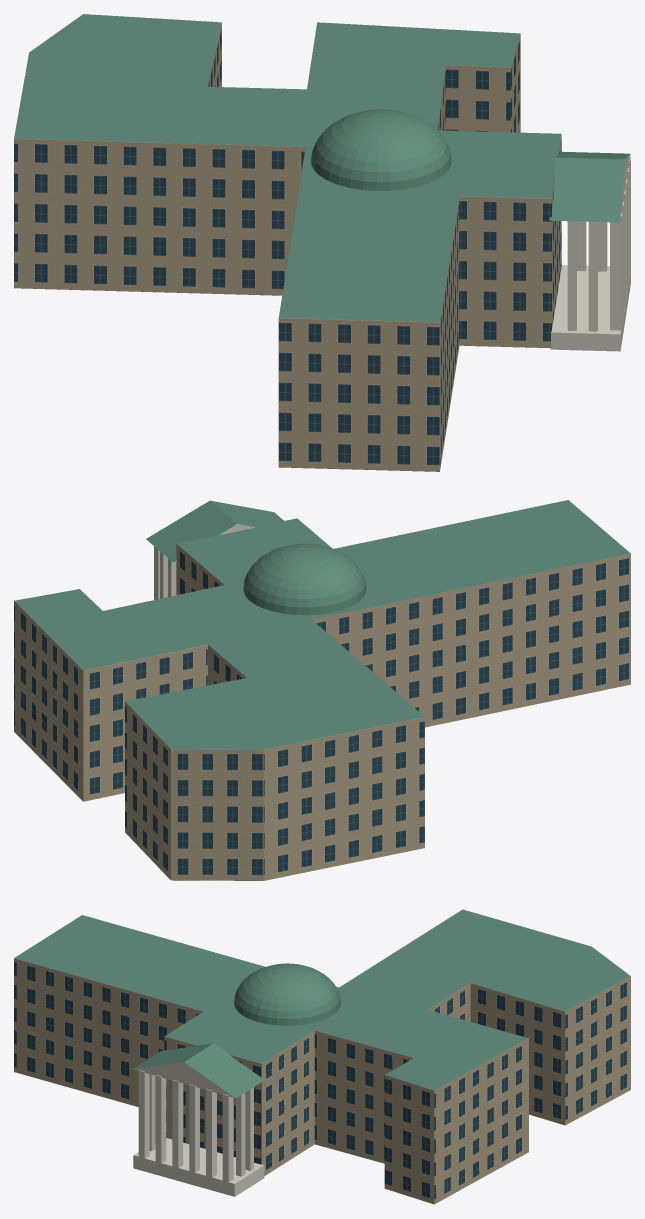
The model's file is fragments.glb.
The picture shows the model from 3 angles, top to bottom: view 1: azimuth 30°, elevation 25°; view 2: azimuth 150°, elevation 25°; view 3: azimuth 270°, elevation 25°; orthographic projection. The views are drawn at different scales.
Visible parts, largest first — view 1: SM_MainV1_Fragment_001, SM_MainV1_Fragment_023, SM_MainV1_Fragment_025, SM_MainV1_Fragment_006, SM_MainV1_Fragment_045, SM_MainV1_Fragment_019, SM_MainV1_Fragment_005, SM_MainV1_Fragment_043, SM_MainV1_Fragment_031, SM_MainV1_Fragment_026, SM_MainV1_Fragment_033, SM_MainV1_Fragment_029 (+22 smaller); view 2: SM_MainV1_Fragment_002, SM_MainV1_Fragment_046, SM_MainV1_Fragment_004, SM_MainV1_Fragment_013, SM_MainV1_Fragment_050, SM_MainV1_Fragment_003, SM_MainV1_Fragment_044, SM_MainV1_Fragment_022, SM_MainV1_Fragment_027, SM_MainV1_Fragment_005, SM_MainV1_Fragment_029, SM_MainV1_Fragment_006 (+26 smaller); view 3: SM_MainV1_Fragment_009, SM_MainV1_Fragment_011, SM_MainV1_Fragment_047, SM_MainV1_Fragment_030, SM_MainV1_Fragment_003, SM_MainV1_Fragment_005, SM_MainV1_Fragment_001, SM_MainV1_Fragment_016, SM_MainV1_Fragment_032, SM_MainV1_Fragment_018, SM_MainV1_Fragment_049, SM_MainV1_Fragment_026 (+24 smaller).
Boxes of the visible parts, x1,y1,x2,y2 form: SM_MainV1_Fragment_001: (350,274,446,417); SM_MainV1_Fragment_023: (86,187,217,293); SM_MainV1_Fragment_025: (169,99,319,215); SM_MainV1_Fragment_006: (88,75,211,195); SM_MainV1_Fragment_045: (391,162,560,292); SM_MainV1_Fragment_019: (14,109,109,228); SM_MainV1_Fragment_005: (465,131,621,262); SM_MainV1_Fragment_043: (278,282,371,409); SM_MainV1_Fragment_031: (456,239,554,347); SM_MainV1_Fragment_026: (428,30,520,132); SM_MainV1_Fragment_033: (514,213,625,351); SM_MainV1_Fragment_029: (298,114,411,202); SM_MainV1_Fragment_002: (139,718,249,846); SM_MainV1_Fragment_046: (221,708,342,821); SM_MainV1_Fragment_004: (414,618,531,724); SM_MainV1_Fragment_013: (529,599,630,705); SM_MainV1_Fragment_050: (396,555,511,656); SM_MainV1_Fragment_003: (27,622,114,737); SM_MainV1_Fragment_044: (85,605,215,715); SM_MainV1_Fragment_022: (503,540,608,622); SM_MainV1_Fragment_027: (151,817,270,880); SM_MainV1_Fragment_005: (177,509,292,594); SM_MainV1_Fragment_029: (283,546,403,627); SM_MainV1_Fragment_006: (244,664,389,711); SM_MainV1_Fragment_009: (297,1012,399,1122); SM_MainV1_Fragment_011: (74,965,180,1072); SM_MainV1_Fragment_047: (472,969,588,1060); SM_MainV1_Fragment_030: (143,1053,265,1158); SM_MainV1_Fragment_003: (443,1032,528,1150); SM_MainV1_Fragment_005: (139,1023,298,1115); SM_MainV1_Fragment_001: (14,940,104,1030); SM_MainV1_Fragment_016: (179,1111,282,1196); SM_MainV1_Fragment_032: (240,968,338,1039); SM_MainV1_Fragment_018: (529,1034,609,1125); SM_MainV1_Fragment_049: (384,1126,468,1204); SM_MainV1_Fragment_026: (384,1054,463,1134).
Bounding box in the file's own units: 1.95 × 0.7334 × 2.8.
Materials: 4 (2 with a texture image).
